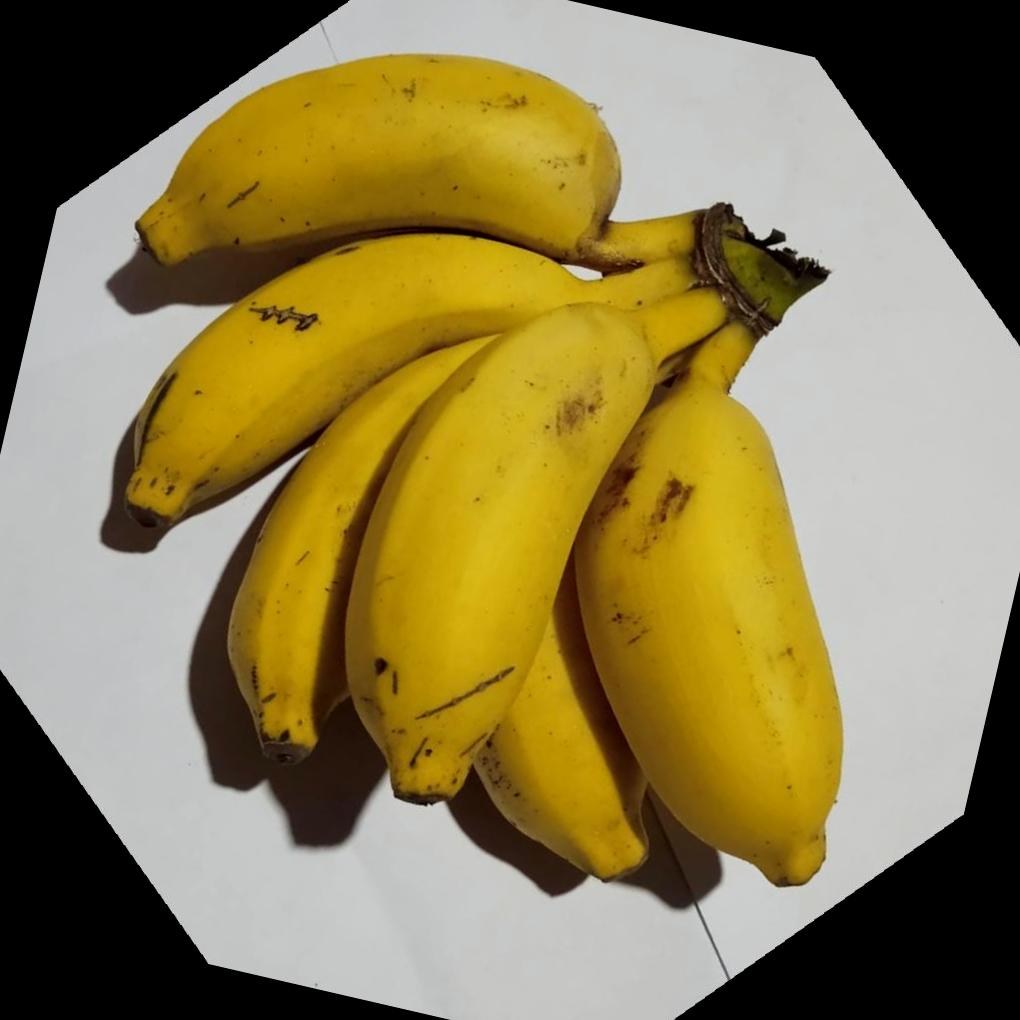Banana Ripe: (17, 147, 709, 950), (512, 189, 1020, 944), (141, 0, 672, 364)
